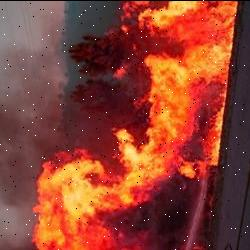fire: (22, 0, 238, 250)
